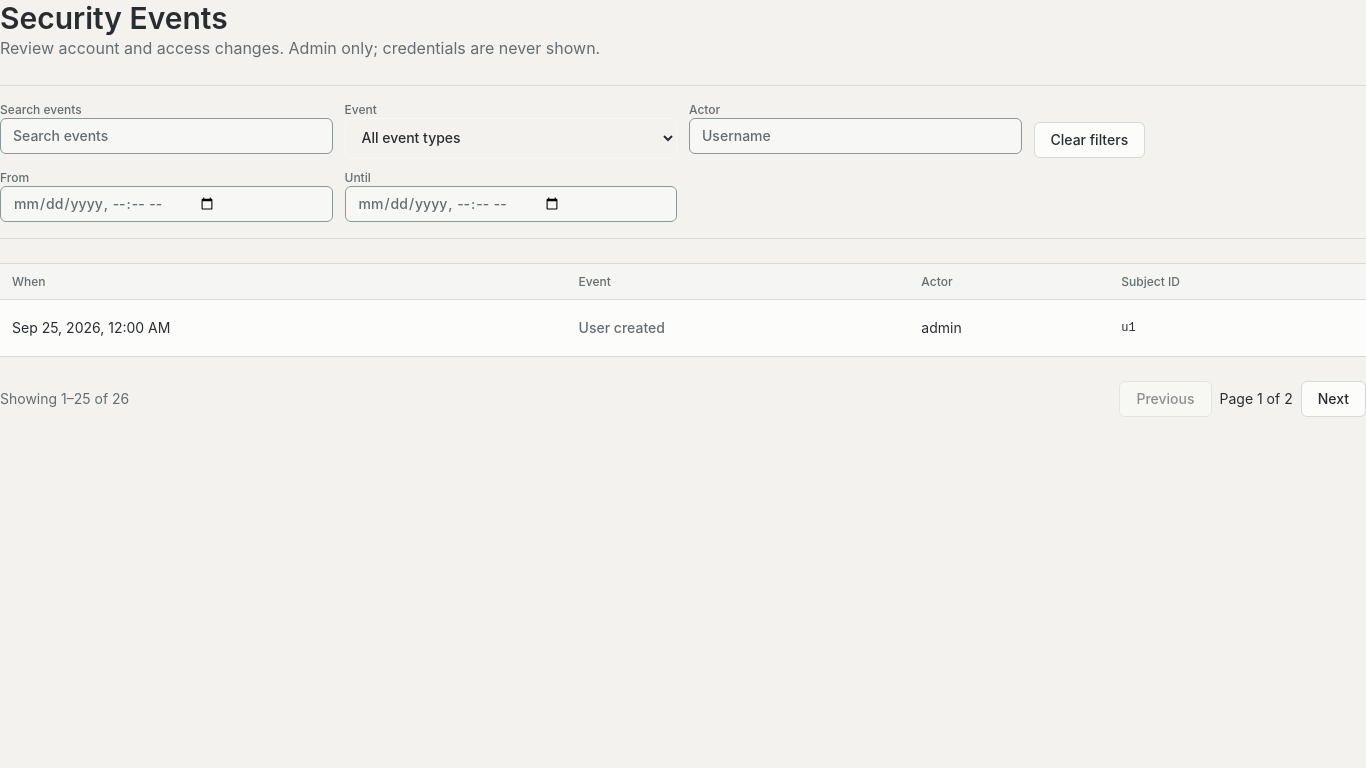
Test: Security Events page › filters by real event type and opens safe event metadata
Expected: the button with aria-label "View details: User created" is shown, x1=579 y1=310 x2=665 y2=346
Select "User created" in the dropdown labelled "Event" at (511, 138), box x1=344 y1=118 x2=677 y2=158
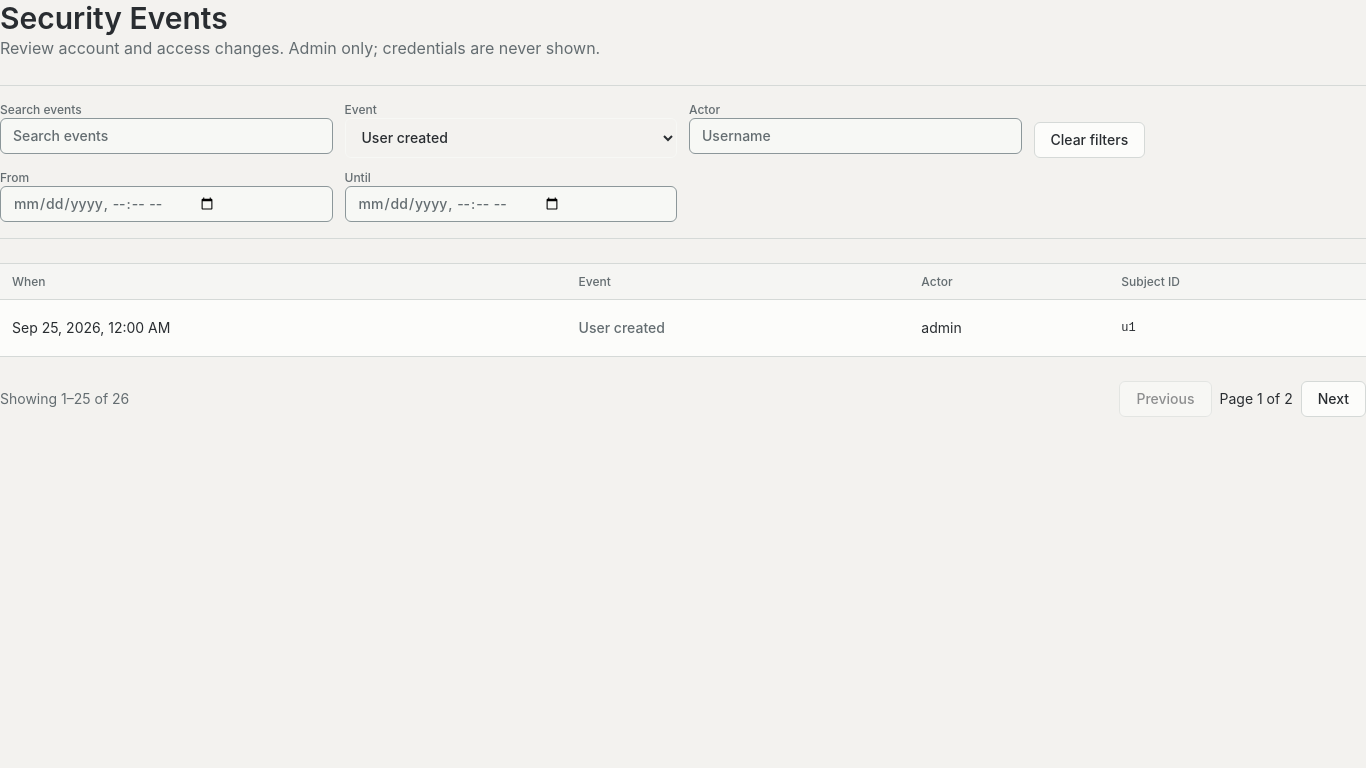
Click the button with aria-label "View details: User created" at (622, 328), box x1=579 y1=310 x2=665 y2=346
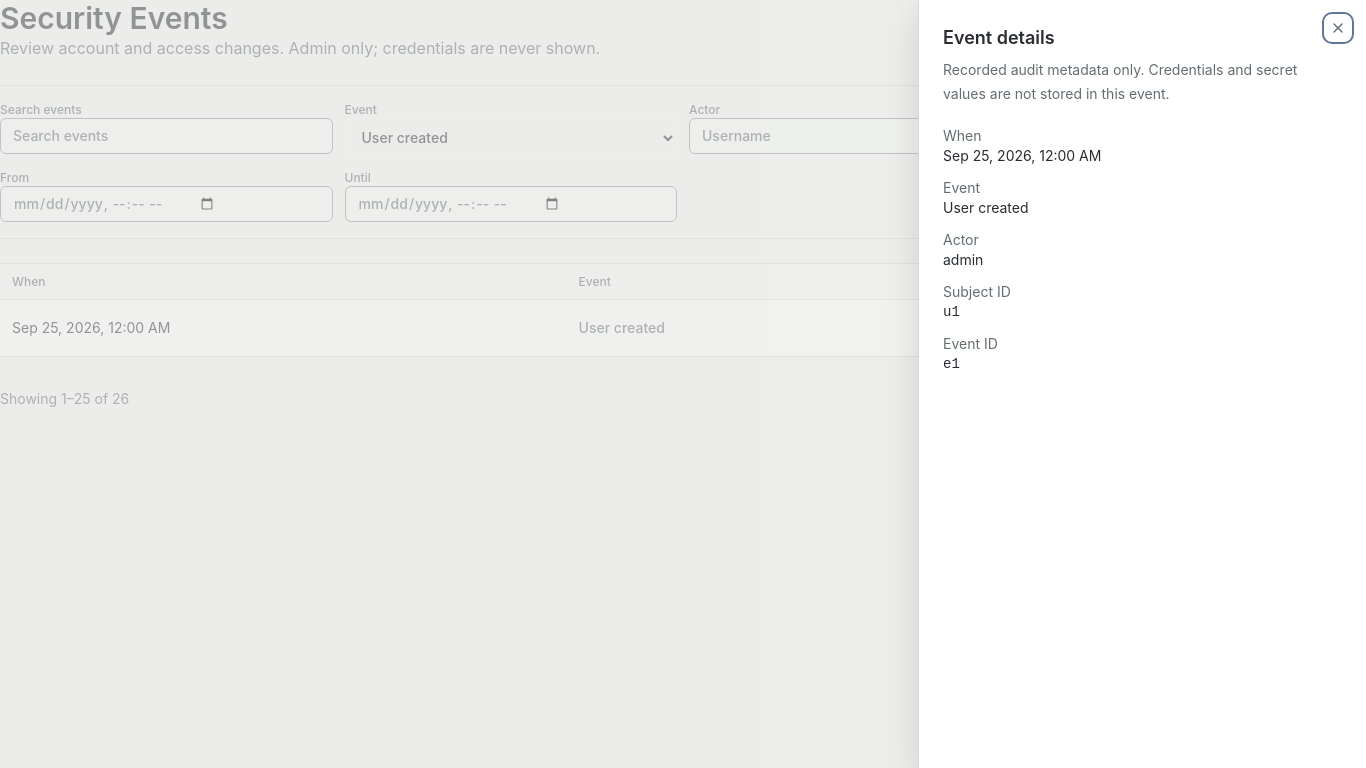
Now the heading "Event details" is shown, box x1=943 y1=27 x2=1055 y2=48
Now the text "e1" is shown, box x1=943 y1=356 x2=960 y2=372
